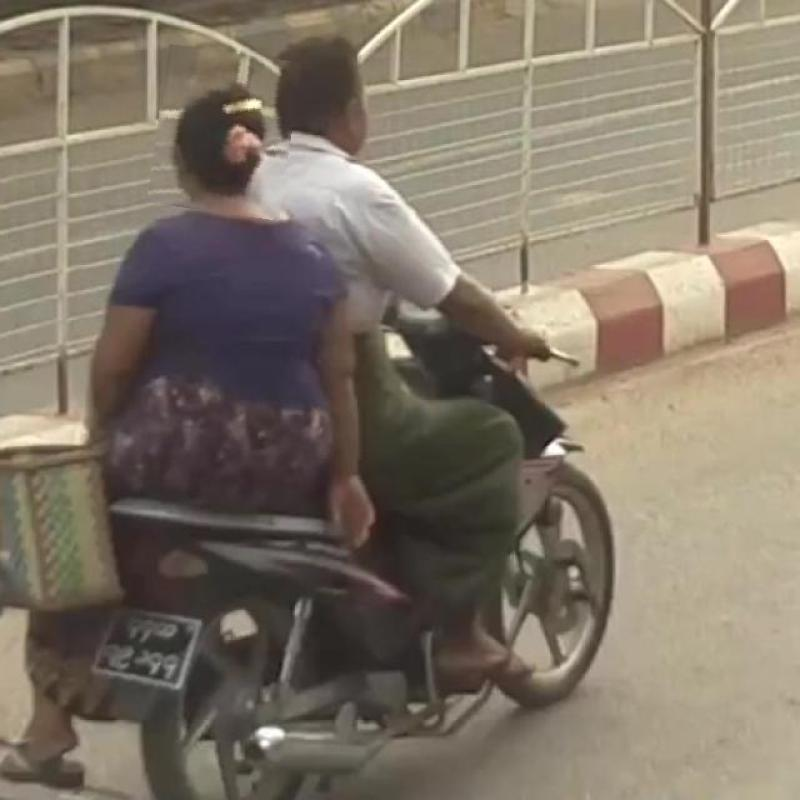nohelmet: (152, 49, 296, 217)
